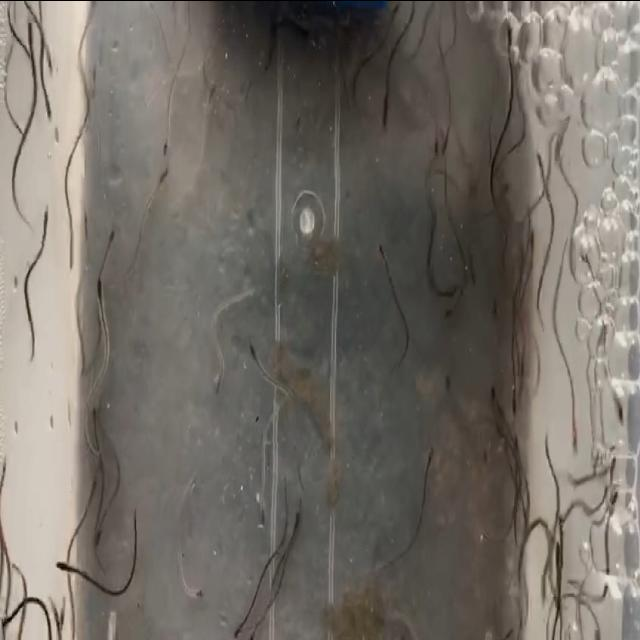active_glass_eel: (480, 372, 500, 424), (568, 400, 587, 451), (186, 572, 210, 612), (88, 514, 110, 552), (100, 214, 122, 250), (158, 126, 174, 175), (182, 471, 208, 501), (422, 432, 446, 464), (603, 478, 621, 520), (610, 391, 630, 428), (508, 360, 518, 431), (501, 29, 516, 76), (378, 100, 394, 144), (532, 147, 546, 197), (38, 200, 52, 248), (550, 536, 568, 572), (76, 210, 92, 248), (376, 233, 392, 270), (606, 440, 623, 474), (426, 129, 442, 165), (43, 25, 54, 75), (228, 610, 246, 640), (434, 302, 464, 320), (90, 279, 106, 312), (438, 126, 454, 159), (40, 90, 54, 124), (212, 370, 228, 399), (256, 499, 270, 532), (154, 166, 172, 190), (247, 340, 264, 364), (55, 552, 73, 572), (22, 14, 36, 38), (247, 616, 259, 640), (88, 408, 98, 436), (444, 374, 456, 392)
